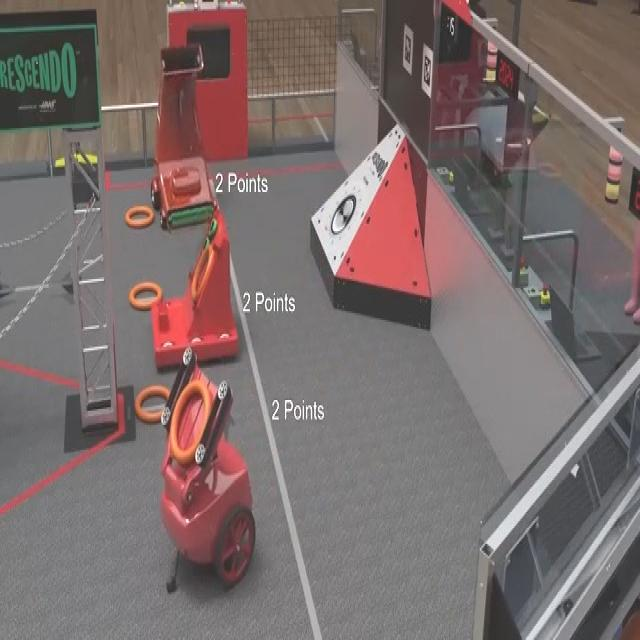notes: (134, 383, 168, 424), (130, 280, 162, 310), (125, 204, 156, 228)
